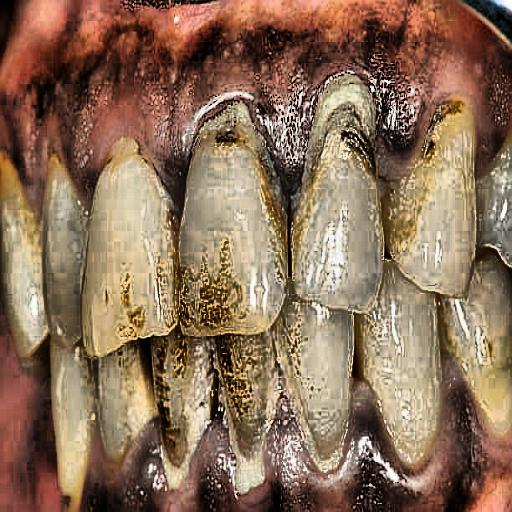Calculus: (1, 63, 512, 487)
